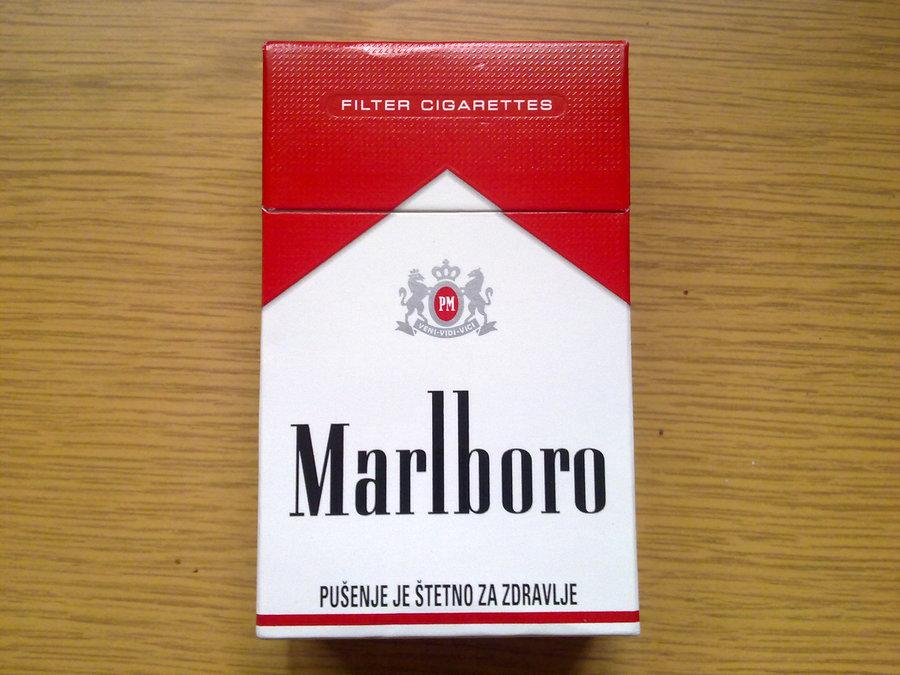marlboro_red: (256, 42, 635, 634)
